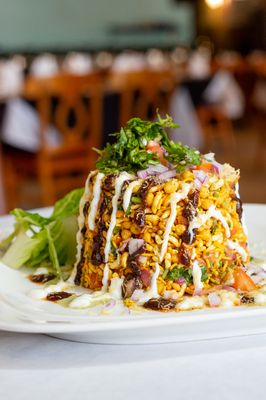curry: (93, 112, 203, 179)
